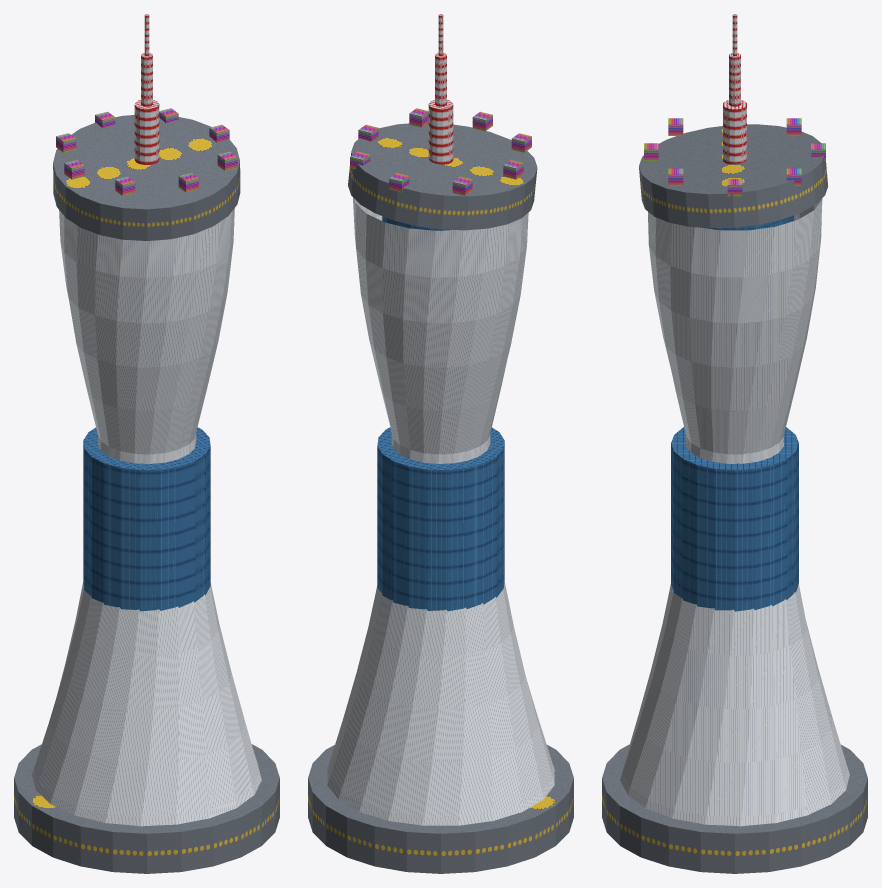
The model's file is landmark_canton_tower.glb.
3 views of the same model, side by side, from view 1: azimuth 30°, elevation 25°; view 2: azimuth 150°, elevation 25°; view 3: azimuth 270°, elevation 25° (orthographic).
Visible parts, largest first — view 1: Landmark_Canton_Tower; view 2: Landmark_Canton_Tower; view 3: Landmark_Canton_Tower.
Boxes of the visible parts, <box> form: Landmark_Canton_Tower: <box>14,14,279,873</box>; Landmark_Canton_Tower: <box>308,14,573,873</box>; Landmark_Canton_Tower: <box>602,14,867,873</box>.
Bounding box in the file's own units: 10.8 × 36 × 10.8.
1 material, 1 textured.
